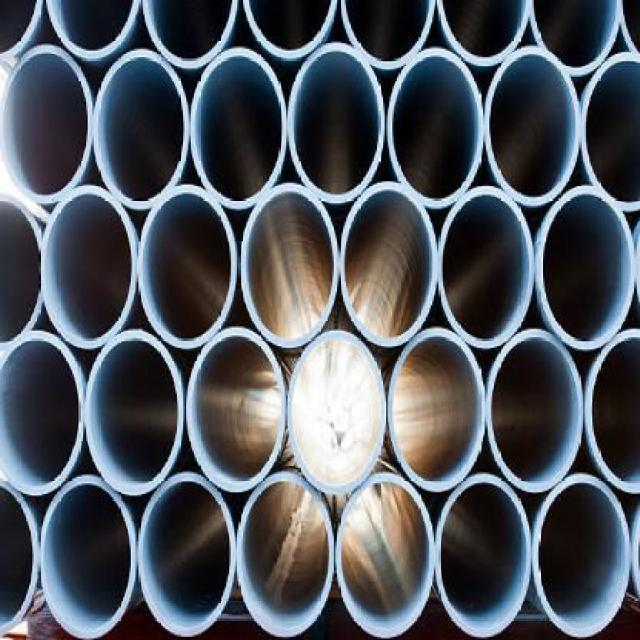pipe: (84, 330, 184, 497), (186, 328, 286, 492), (138, 185, 237, 350), (288, 331, 387, 496), (337, 474, 435, 640), (537, 186, 636, 350), (241, 183, 339, 348), (138, 473, 236, 638), (341, 182, 438, 348), (237, 473, 334, 638), (534, 475, 632, 638), (389, 328, 486, 492), (488, 329, 584, 494), (41, 186, 137, 350), (288, 42, 385, 204), (191, 47, 287, 210), (437, 475, 532, 638), (40, 477, 135, 640), (388, 47, 484, 208), (93, 49, 189, 210), (440, 186, 535, 348), (486, 46, 581, 206), (0, 44, 92, 204), (0, 332, 84, 496)
